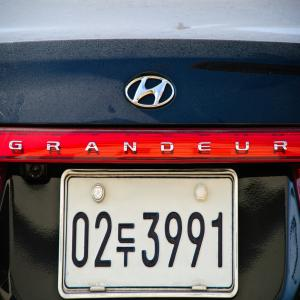Vehicle-registration-plate: (58, 166, 240, 299)
